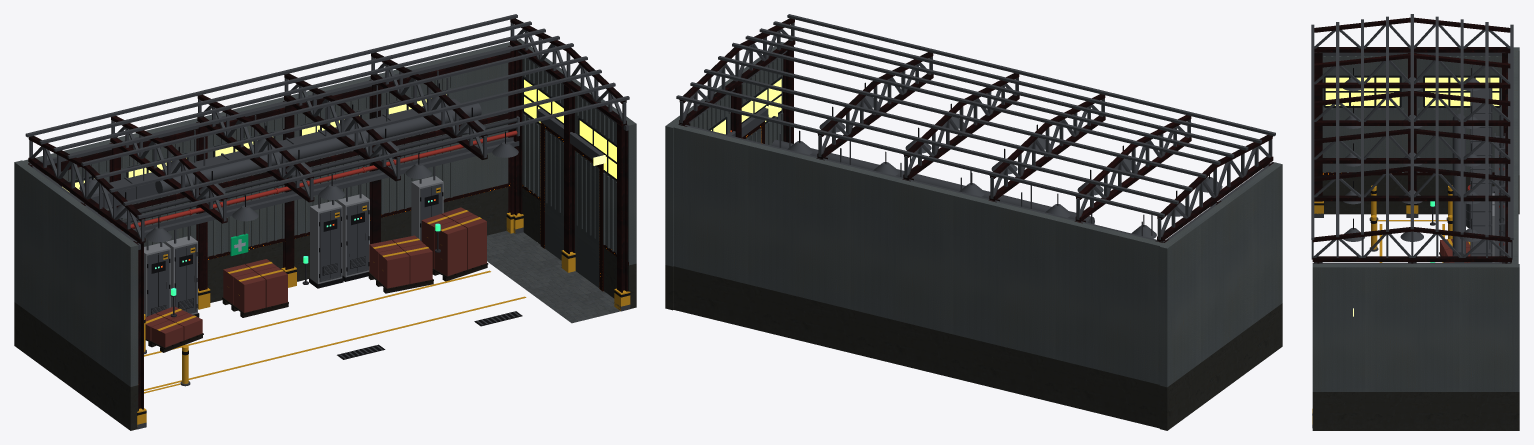
Rendered from FactoryBackground.glb.
The picture shows the model from 3 angles, left to right: view 1: azimuth 30°, elevation 25°; view 2: azimuth 150°, elevation 25°; view 3: azimuth 270°, elevation 25°; orthographic projection. The views are drawn at different scales.
Visible parts, largest first — view 1: FW_FB_SteelGray, FW_FB_Cladding, FW_FB_SteelBlue, FW_FB_Concrete, FW_Box_Cardboard, FW_Floor, FW_FQ_Duct, FW_FB_RollerDoor, FW_FB_Cabinet, FW_FB_YellowPaint, FW_FB_BlackPlastic, FW_FB_Hazard (+7 smaller); view 2: FW_FB_Cladding, FW_FB_SteelGray, FW_FB_Concrete, FW_FB_SteelBlue, FW_FQ_Duct, FW_FB_WindowGlow; view 3: FW_FB_Cladding, FW_FB_SteelGray, FW_FB_SteelBlue, FW_FB_Concrete, FW_FQ_Duct, FW_FB_WindowGlow, FW_FB_WindowFrame, FW_FB_YellowPaint, FW_FB_PipeGray, FW_Box_Cardboard, FW_FB_BlackPlastic, FW_FB_Hazard.
Boxes of the visible parts, <box> form: FW_FB_SteelGray: <box>25,14,630,429</box>; FW_FB_Cladding: <box>14,38,636,386</box>; FW_FB_SteelBlue: <box>28,18,627,410</box>; FW_FB_Concrete: <box>14,187,636,430</box>; FW_Box_Cardboard: <box>145,207,486,347</box>; FW_Floor: <box>487,231,620,323</box>; FW_FQ_Duct: <box>70,98,481,211</box>; FW_FB_RollerDoor: <box>545,129,599,287</box>; FW_FB_Cabinet: <box>144,176,443,316</box>; FW_FB_YellowPaint: <box>137,187,630,426</box>; FW_FB_BlackPlastic: <box>92,83,630,415</box>; FW_FB_Hazard: <box>138,122,628,384</box>; FW_FB_Cladding: <box>665,42,1282,387</box>; FW_FB_SteelGray: <box>676,14,1275,242</box>; FW_FB_Concrete: <box>665,265,1282,430</box>; FW_FB_SteelBlue: <box>678,18,1273,242</box>; FW_FQ_Duct: <box>771,139,1094,224</box>; FW_FB_WindowGlow: <box>711,79,781,134</box>; FW_FB_Cladding: <box>1312,47,1519,391</box>; FW_FB_SteelGray: <box>1311,14,1513,427</box>; FW_FB_SteelBlue: <box>1312,17,1511,263</box>; FW_FB_Concrete: <box>1312,175,1519,430</box>; FW_FQ_Duct: <box>1452,88,1492,262</box>; FW_FB_WindowGlow: <box>1325,77,1499,105</box>; FW_FB_WindowFrame: <box>1323,75,1500,107</box>; FW_FB_YellowPaint: <box>1312,185,1452,424</box>; FW_FB_PipeGray: <box>1499,115,1504,256</box>; FW_Box_Cardboard: <box>1440,239,1470,262</box>; FW_FB_BlackPlastic: <box>1312,68,1494,415</box>; FW_FB_Hazard: <box>1322,172,1494,175</box>.
Bounding box in the file's own units: 13.33 × 5.63 × 5.31.
30 materials, 7 textured.
